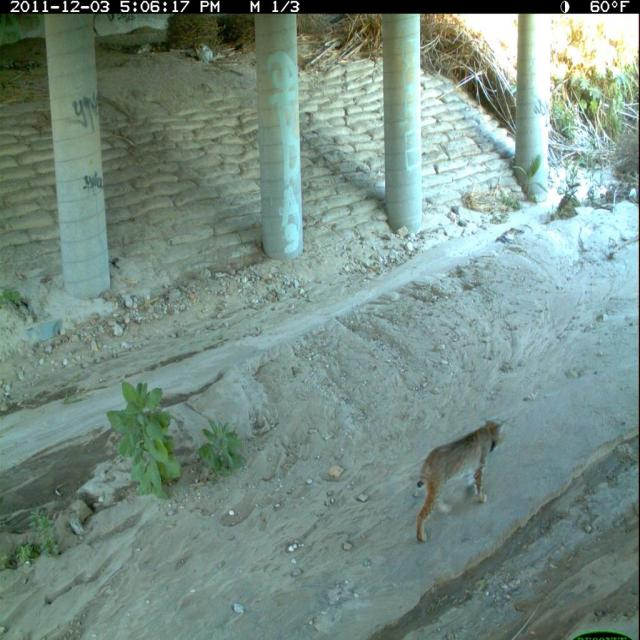bobcat: (413, 413, 509, 546)
